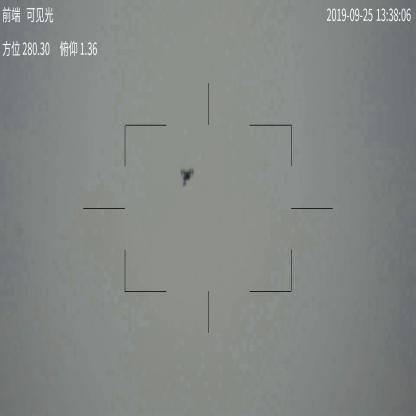uav: (180, 166, 195, 187)
